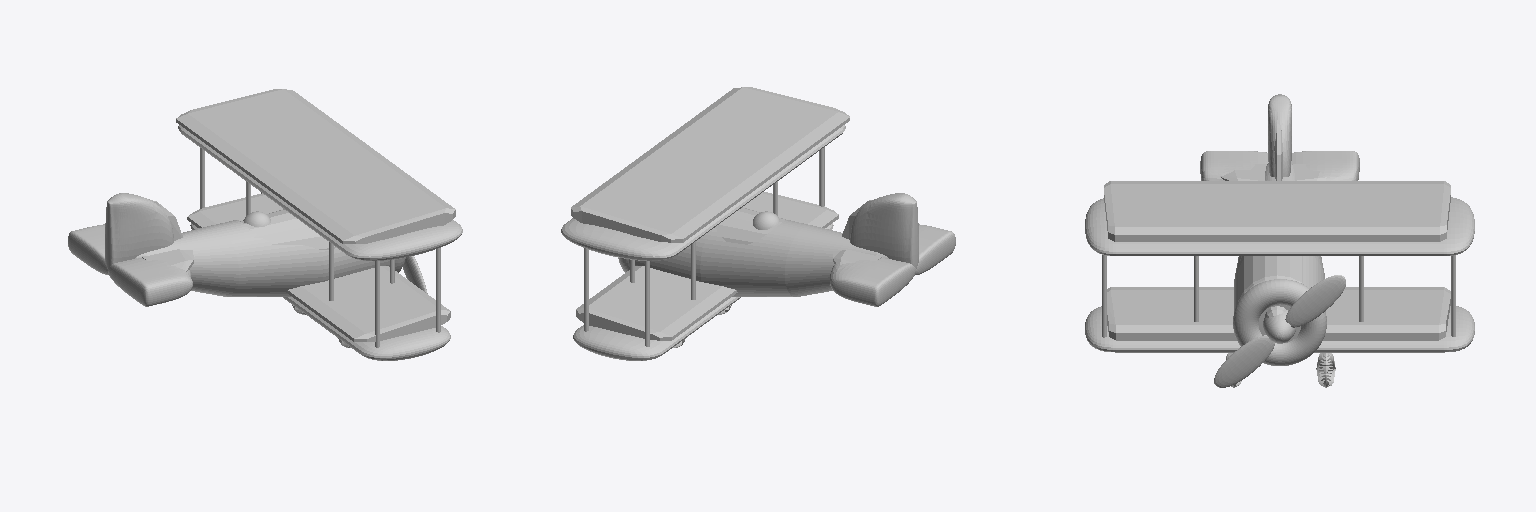
The model's file is PlaneLowPoly.obj.
The picture shows the model from 3 angles: view 1: azimuth 30°, elevation 25°; view 2: azimuth 150°, elevation 25°; view 3: azimuth 270°, elevation 25°; orthographic projection.
Visible parts, largest first — view 1: Cylinder_Cylinder.001, Cube.002_Cube.004; view 2: Cylinder_Cylinder.001, Cube.002_Cube.004; view 3: Cylinder_Cylinder.001, Cube.002_Cube.004.
Boxes of the visible parts, <box> form: Cylinder_Cylinder.001: <box>142,89,455,341</box>; Cube.002_Cube.004: <box>68,125,462,360</box>; Cylinder_Cylinder.001: <box>571,87,881,340</box>; Cube.002_Cube.004: <box>561,125,955,360</box>; Cylinder_Cylinder.001: <box>1104,124,1450,340</box>; Cube.002_Cube.004: <box>1085,94,1474,387</box>.
Bounding box in the file's own units: 10.65 × 6.34 × 12.02.